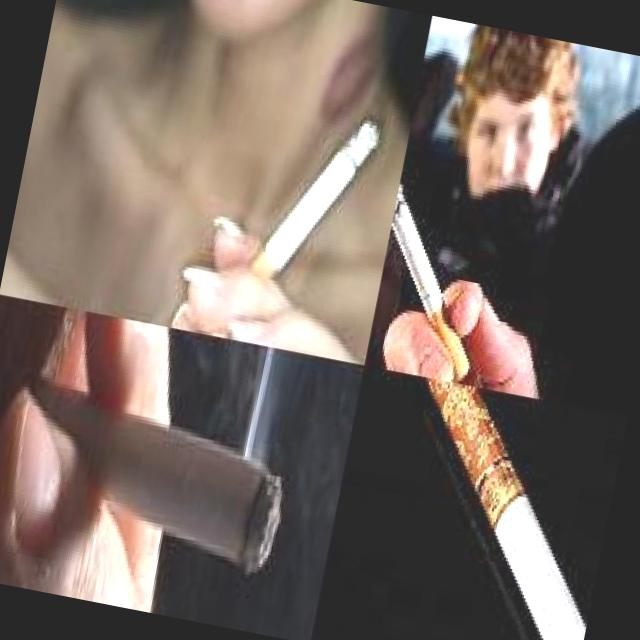smoke: (370, 377, 627, 640), (0, 373, 299, 579), (209, 92, 387, 358), (366, 158, 509, 382)
